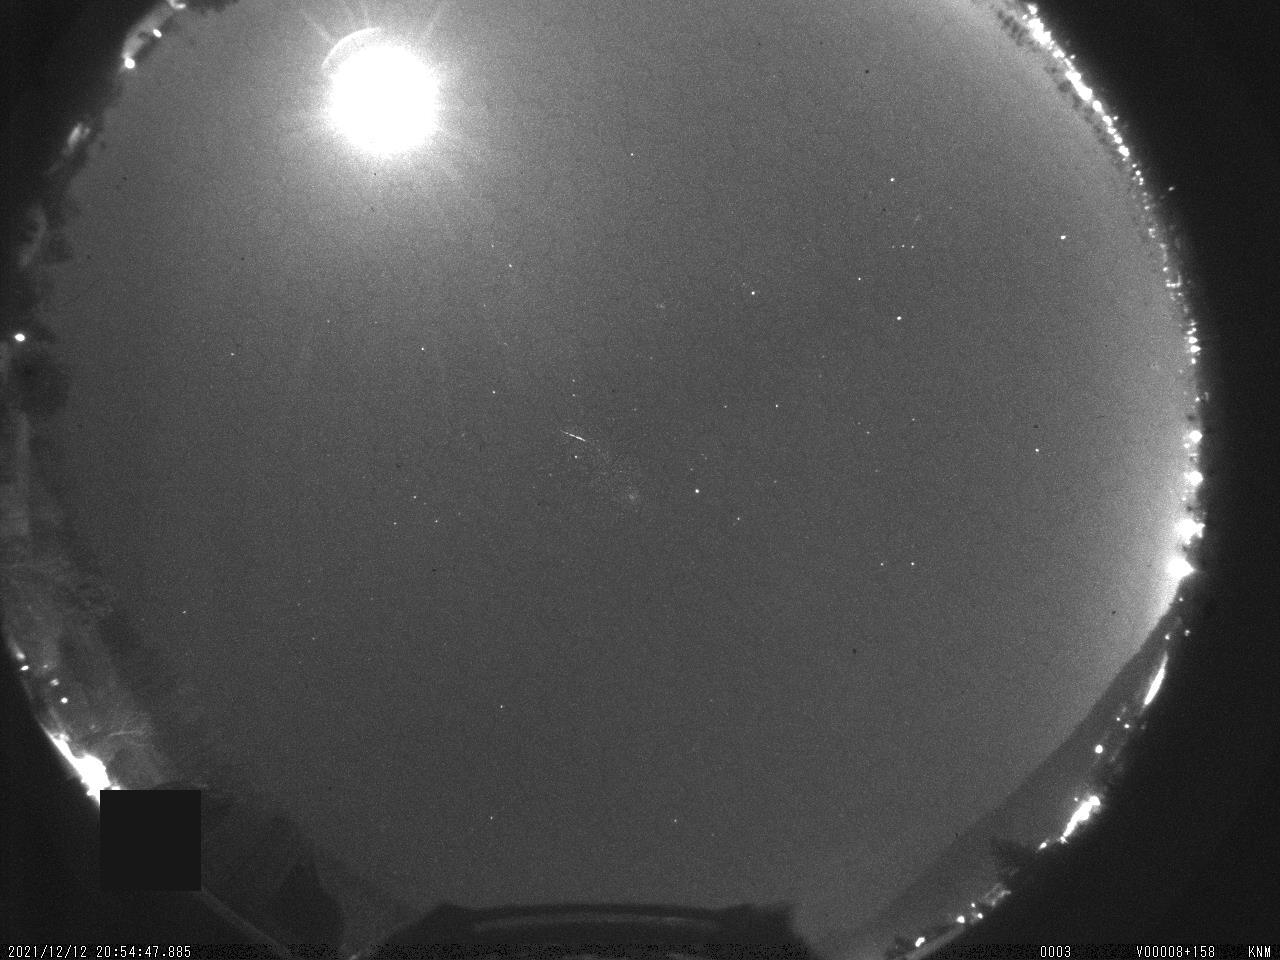meteor: (553, 418, 605, 458)
